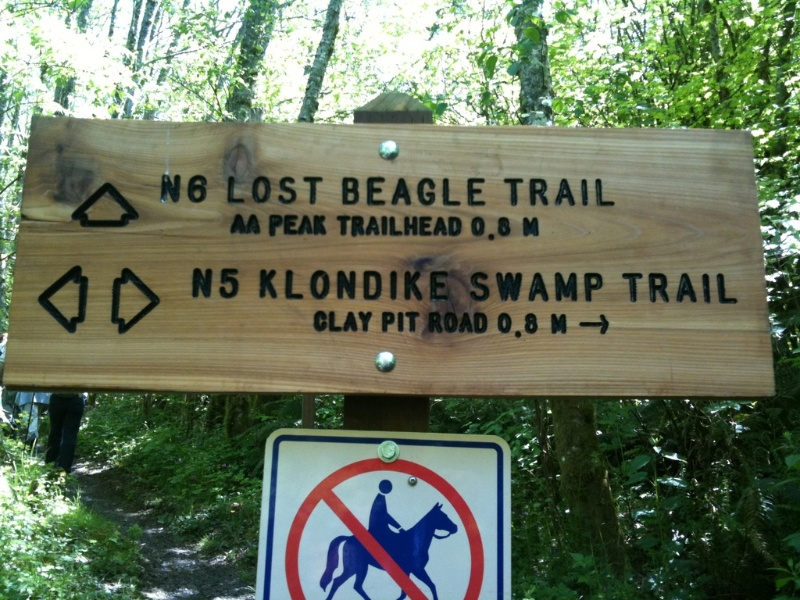animal_ahead: (257, 418, 515, 600)
